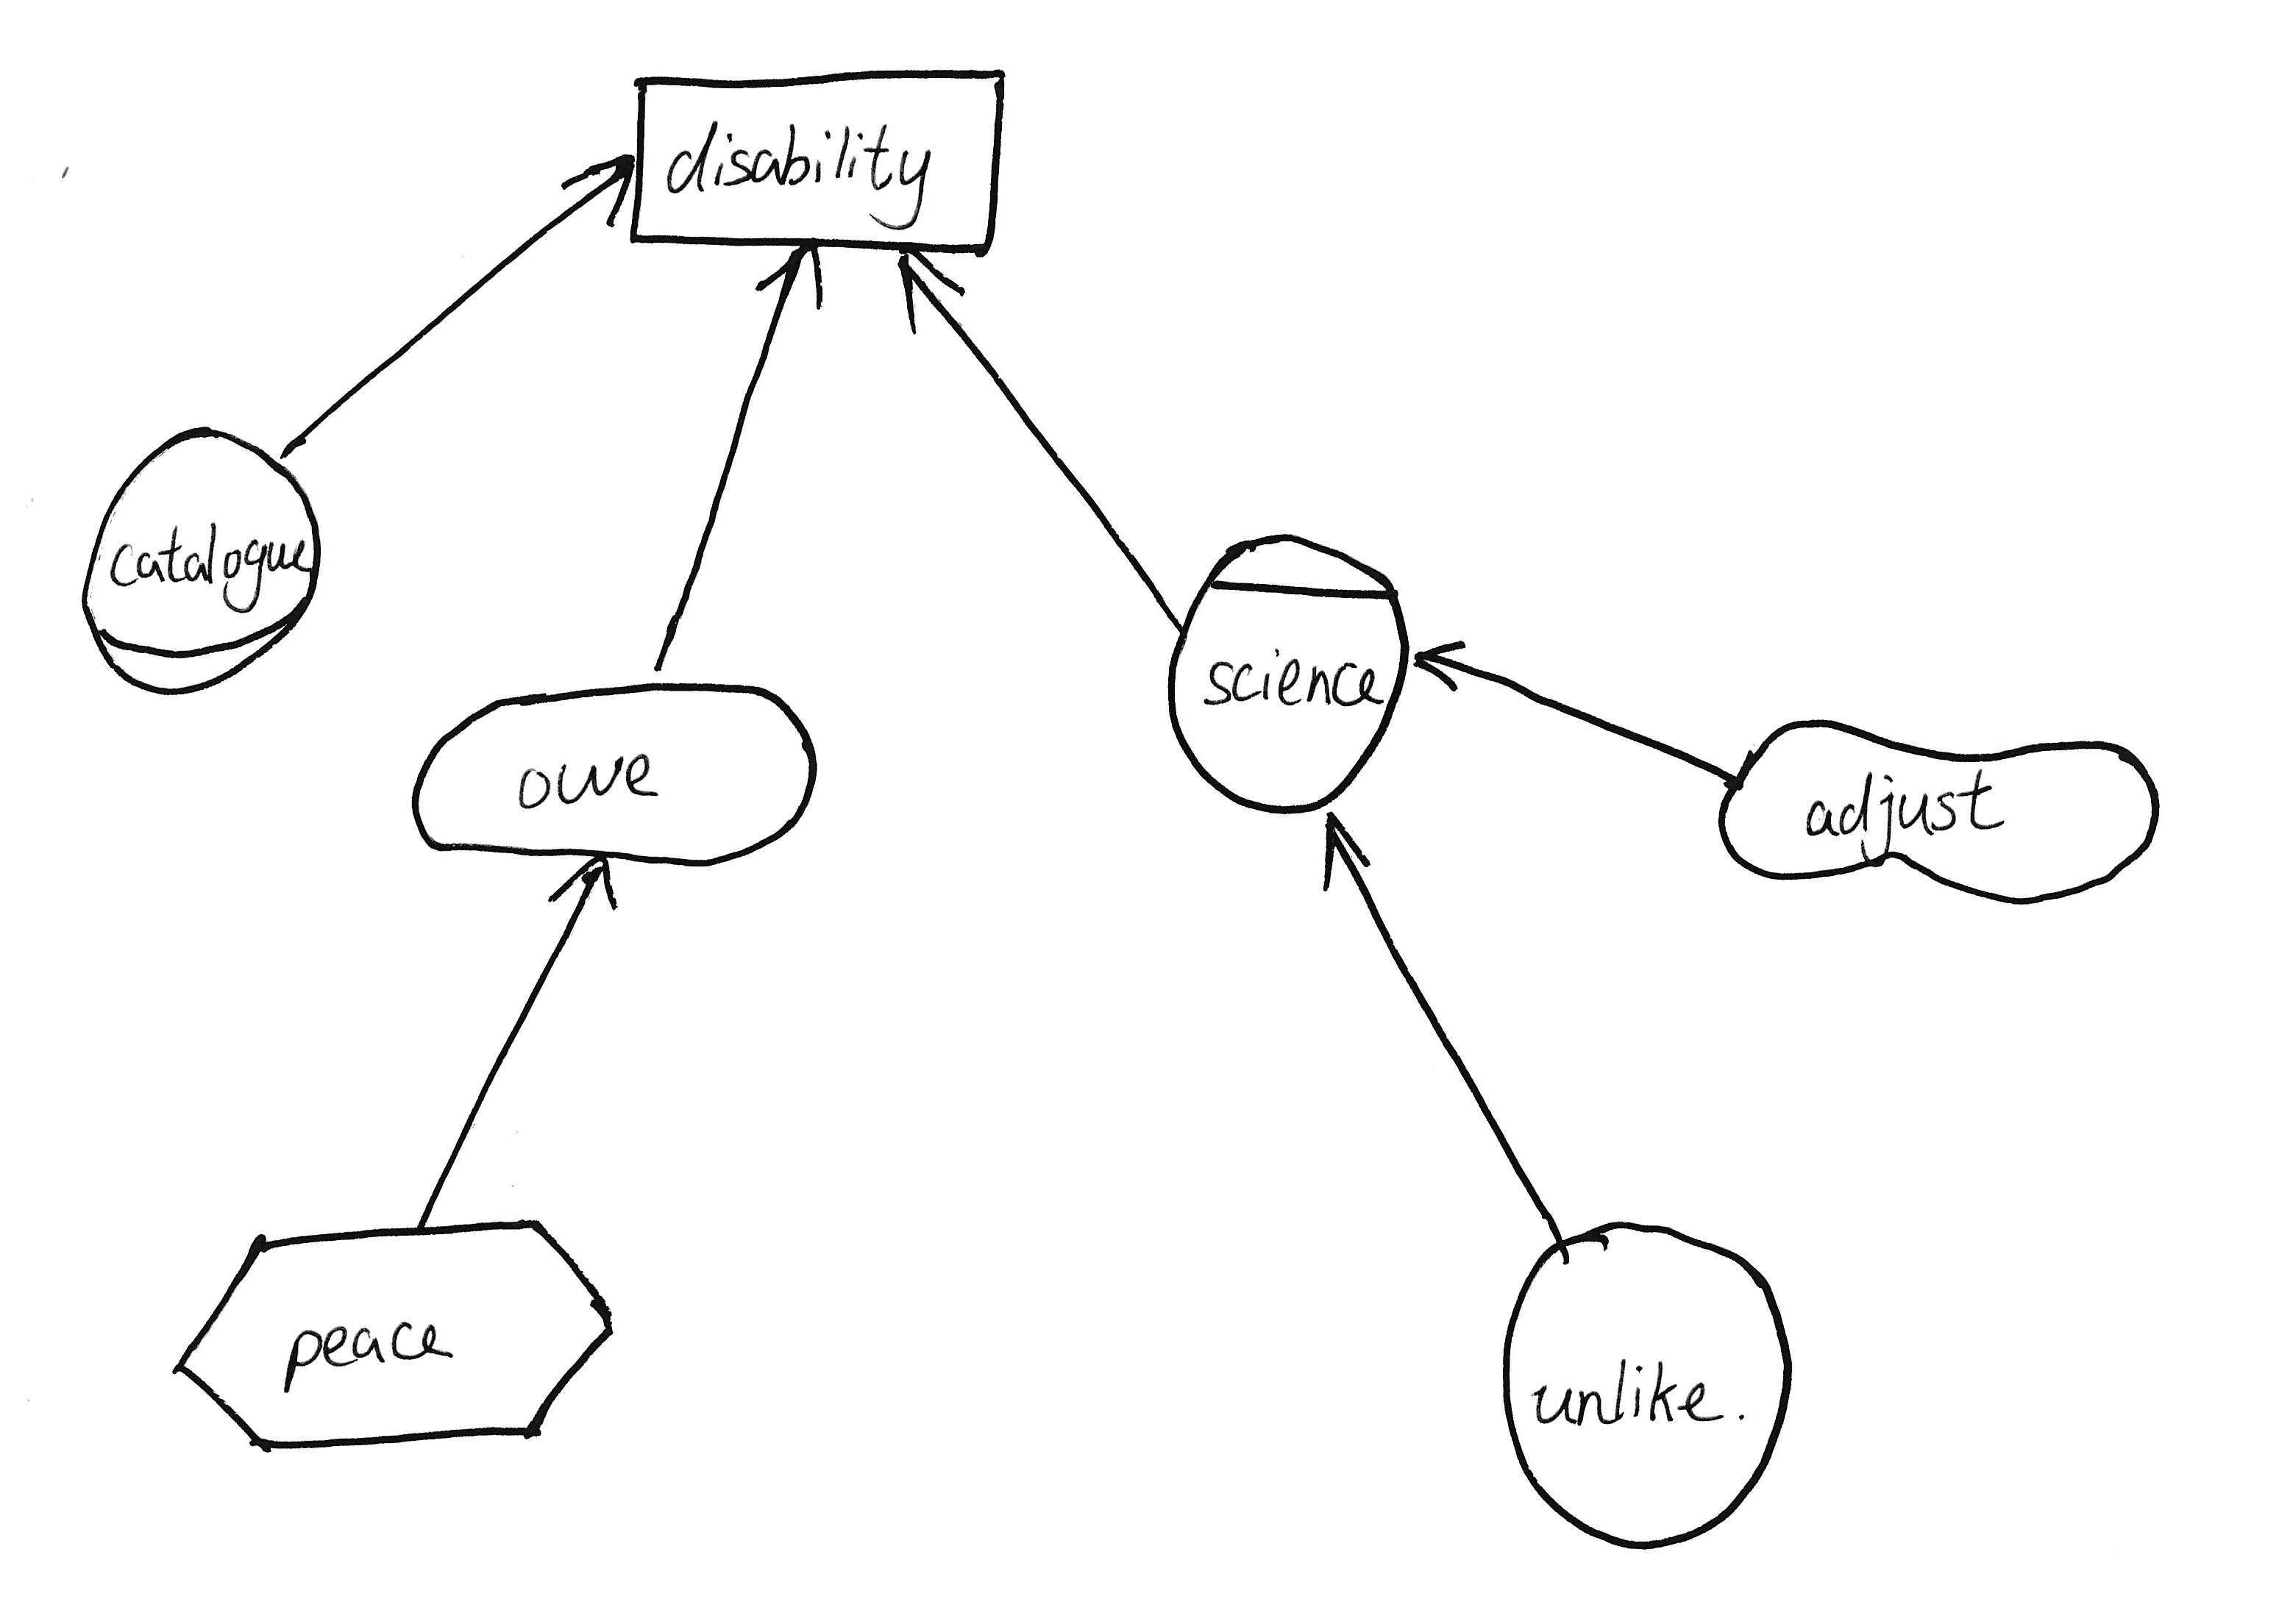actor: (1488, 1200, 1810, 1562)
agent: (1153, 524, 1427, 830)
arrow: (1295, 807, 1397, 910), (553, 128, 638, 253), (880, 239, 977, 343), (743, 244, 847, 330), (1402, 622, 1474, 703)
goal: (397, 664, 838, 879)
quality: (1701, 700, 2189, 924)
resource: (619, 44, 1023, 276)
role: (69, 406, 336, 717)
task: (158, 1199, 640, 1471)
